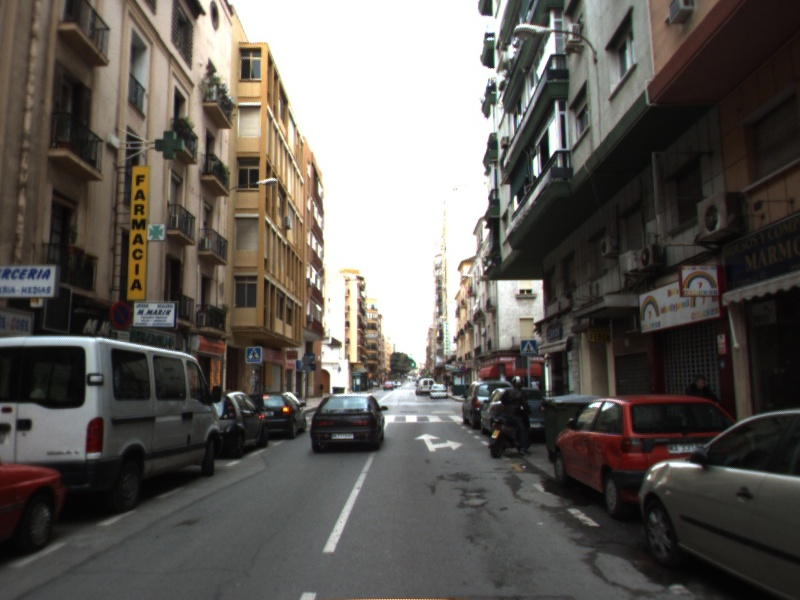STRAIGHT_RIGHT: (413, 432, 464, 453)
